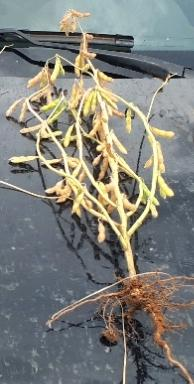soja: (99, 86, 119, 112), (157, 173, 175, 199), (111, 128, 128, 155), (147, 125, 176, 140), (26, 71, 45, 92), (6, 97, 23, 119), (50, 56, 62, 87), (55, 185, 73, 205), (72, 192, 87, 216), (100, 86, 121, 103), (125, 104, 136, 136), (156, 144, 168, 173), (46, 178, 65, 196), (83, 89, 95, 117), (93, 222, 107, 245), (68, 91, 84, 111), (96, 68, 115, 84), (41, 97, 61, 112), (29, 91, 53, 103), (20, 123, 46, 134), (53, 57, 68, 76), (79, 45, 98, 60), (17, 101, 29, 124), (99, 157, 109, 183), (87, 122, 102, 139), (146, 193, 163, 208), (62, 127, 74, 148), (90, 91, 100, 116), (107, 193, 118, 215), (11, 155, 41, 163), (120, 198, 136, 213), (41, 157, 66, 166), (148, 203, 160, 221), (46, 89, 58, 106), (77, 170, 89, 186), (92, 152, 104, 167), (75, 53, 82, 78), (159, 183, 168, 202), (60, 134, 83, 141), (70, 9, 84, 20), (39, 131, 64, 137), (144, 155, 154, 169), (86, 32, 98, 43), (80, 63, 91, 75), (61, 14, 72, 25), (75, 205, 82, 221), (97, 142, 107, 153), (111, 110, 126, 117), (72, 82, 76, 104), (72, 23, 78, 33), (85, 10, 91, 19), (65, 32, 71, 39), (60, 26, 66, 31)
